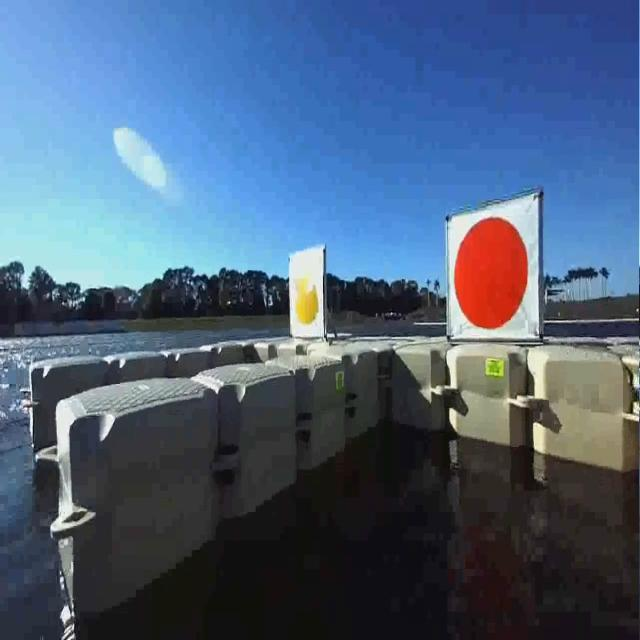red-dot: (447, 214, 534, 334)
yellow-duck: (289, 252, 326, 339)
